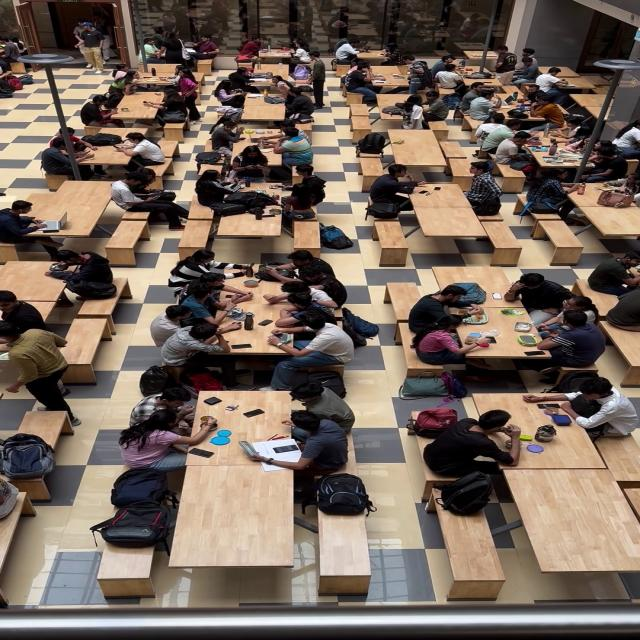Occupied: (474, 390, 614, 471), (187, 302, 333, 354), (250, 410, 348, 482), (529, 374, 640, 437), (116, 407, 215, 475), (423, 410, 520, 479), (152, 326, 235, 398), (447, 316, 567, 361), (108, 174, 188, 230), (278, 380, 355, 438), (93, 502, 178, 548), (411, 327, 484, 380), (522, 168, 586, 222), (129, 387, 199, 434), (388, 128, 451, 179), (168, 248, 250, 286), (47, 250, 114, 295), (197, 390, 294, 421), (537, 315, 605, 359), (173, 283, 247, 323), (506, 273, 582, 311), (109, 467, 176, 509), (408, 288, 480, 327), (20, 202, 116, 231), (311, 473, 375, 516), (46, 128, 101, 178), (271, 164, 327, 213), (433, 472, 494, 516), (194, 170, 252, 216), (368, 166, 428, 210), (0, 265, 75, 299), (0, 433, 55, 479), (280, 271, 348, 308), (264, 308, 339, 340), (592, 433, 640, 483), (264, 251, 338, 283), (587, 252, 640, 296), (0, 202, 51, 245), (115, 132, 166, 172), (463, 162, 503, 213), (579, 146, 629, 183), (346, 64, 406, 94), (111, 99, 162, 134), (147, 92, 192, 129), (598, 172, 640, 209), (410, 407, 459, 438), (276, 129, 315, 167), (534, 68, 574, 105), (80, 96, 124, 129), (551, 113, 595, 146), (493, 131, 535, 165), (209, 117, 247, 154), (231, 146, 272, 180), (304, 369, 348, 400), (475, 121, 515, 155), (400, 371, 450, 398), (547, 370, 601, 394), (459, 84, 498, 116), (529, 99, 567, 130), (504, 50, 538, 84), (342, 309, 379, 339), (611, 120, 640, 158), (214, 81, 251, 109), (129, 74, 180, 94), (445, 41, 496, 60), (0, 36, 26, 73), (457, 49, 498, 72), (110, 64, 140, 95), (228, 68, 263, 94), (319, 224, 354, 250), (140, 365, 170, 395), (165, 64, 198, 91), (282, 92, 314, 119), (256, 74, 299, 94), (184, 36, 219, 60), (434, 64, 464, 92), (440, 371, 469, 399), (256, 50, 296, 69), (142, 38, 166, 68), (357, 132, 387, 154), (334, 38, 360, 63), (493, 48, 518, 74), (224, 192, 264, 208), (186, 54, 220, 71), (366, 202, 399, 219), (177, 76, 200, 100), (237, 37, 262, 59), (288, 42, 314, 63), (356, 52, 390, 66), (194, 151, 224, 164), (160, 110, 187, 123), (18, 74, 34, 85)
Unoccupied: (167, 462, 295, 572), (510, 468, 638, 576), (430, 512, 507, 600), (315, 497, 372, 595), (96, 536, 157, 600), (61, 304, 117, 371), (429, 266, 513, 298), (213, 209, 284, 246), (5, 411, 72, 448), (578, 204, 640, 242), (533, 220, 584, 263), (477, 220, 524, 266), (104, 218, 151, 263), (416, 208, 486, 237), (373, 219, 410, 264), (177, 220, 214, 258), (386, 282, 424, 314), (442, 142, 475, 175), (358, 158, 387, 190), (348, 102, 372, 140), (288, 221, 320, 246), (569, 93, 617, 107), (242, 105, 282, 120)
